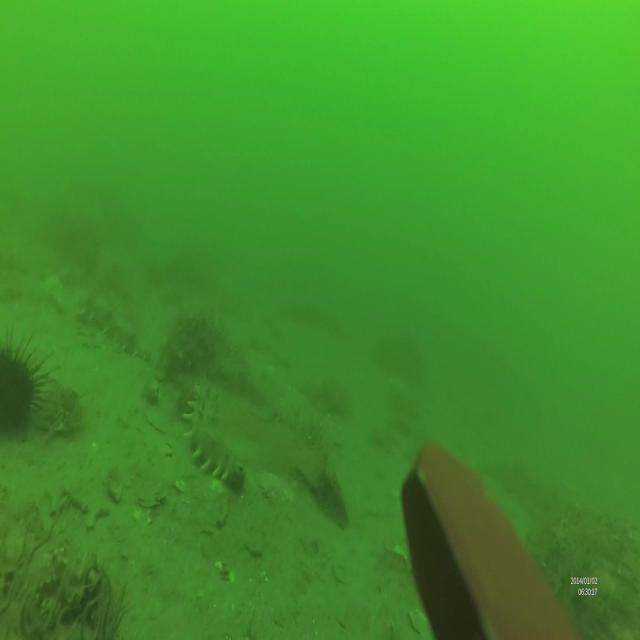echinus: (0, 334, 45, 439)
holothurian: (184, 388, 250, 500), (74, 292, 150, 364)
